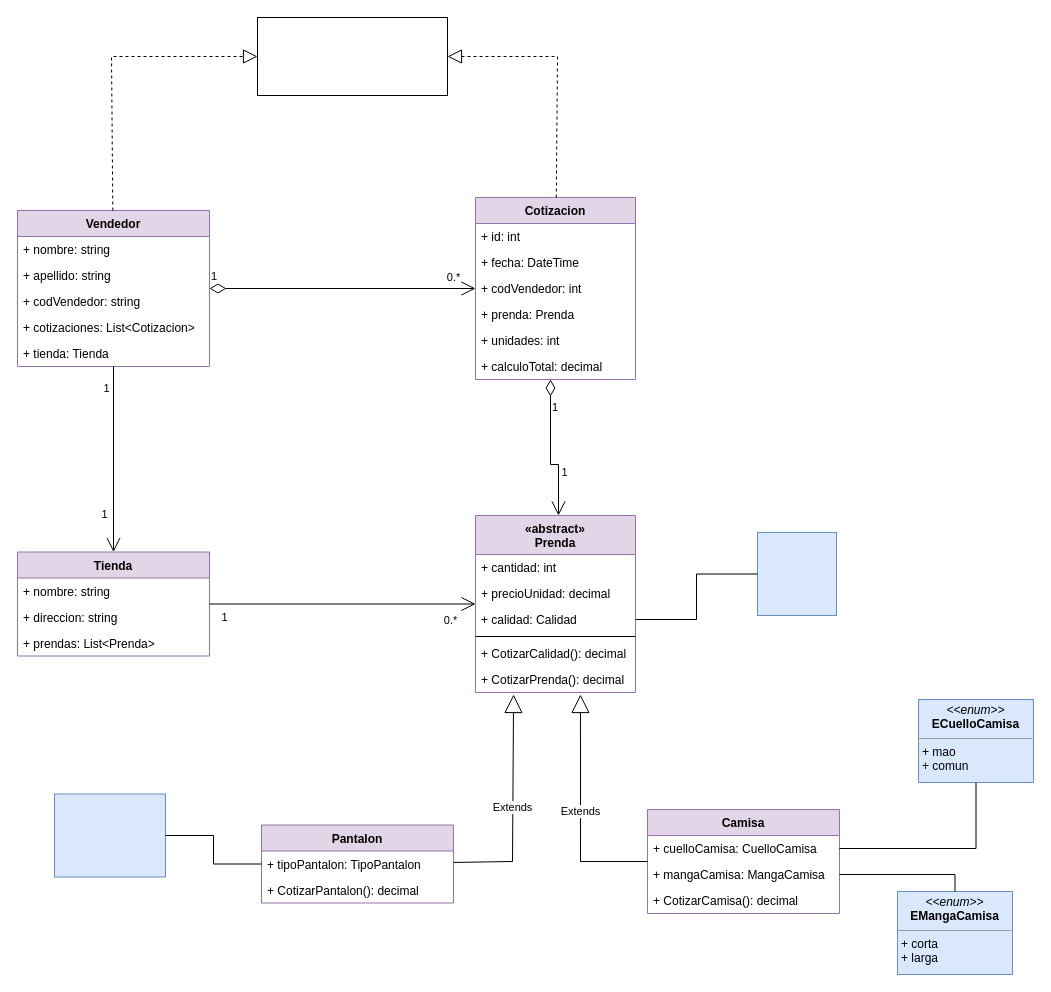
Some shapes in this 1051 by 992 pixel diagram are drawn without their labels. Here are the shapes that lost their labels. From the top down, the centre of each, then its label:
point 352,56: <<Interface>> IImprimible + Imprimir(string): void
point 796,574: <<enum>> ECalidad + standard + premium
point 110,835: <<enum>> ETipoPantalon + comun + chupin
